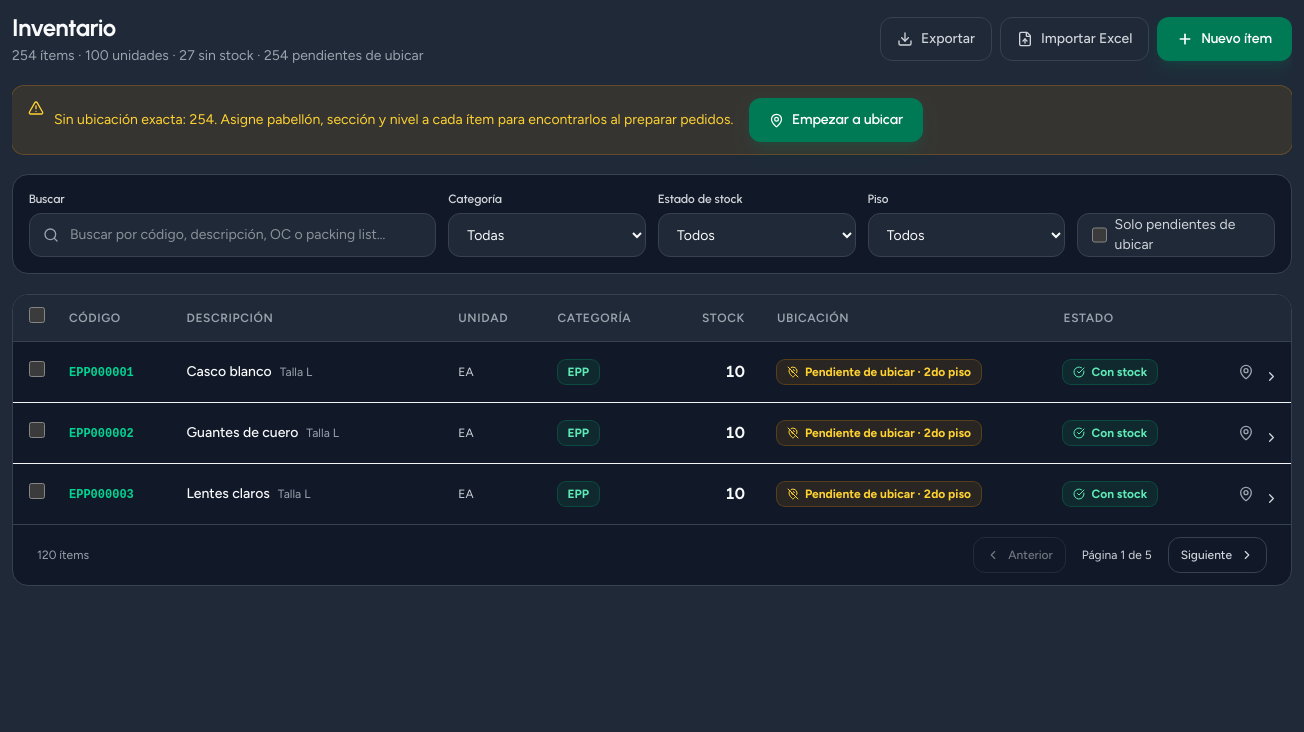
Test case: InventarioPage — selección masiva › cambiar un filtro descarta la selección y vuelve a la página 1
Expected: the link "EPP000001" is shown, left=69, top=366, right=134, bottom=380
Click the button "Siguiente". click: (1217, 555)
box: left=1168, top=537, right=1267, bottom=573
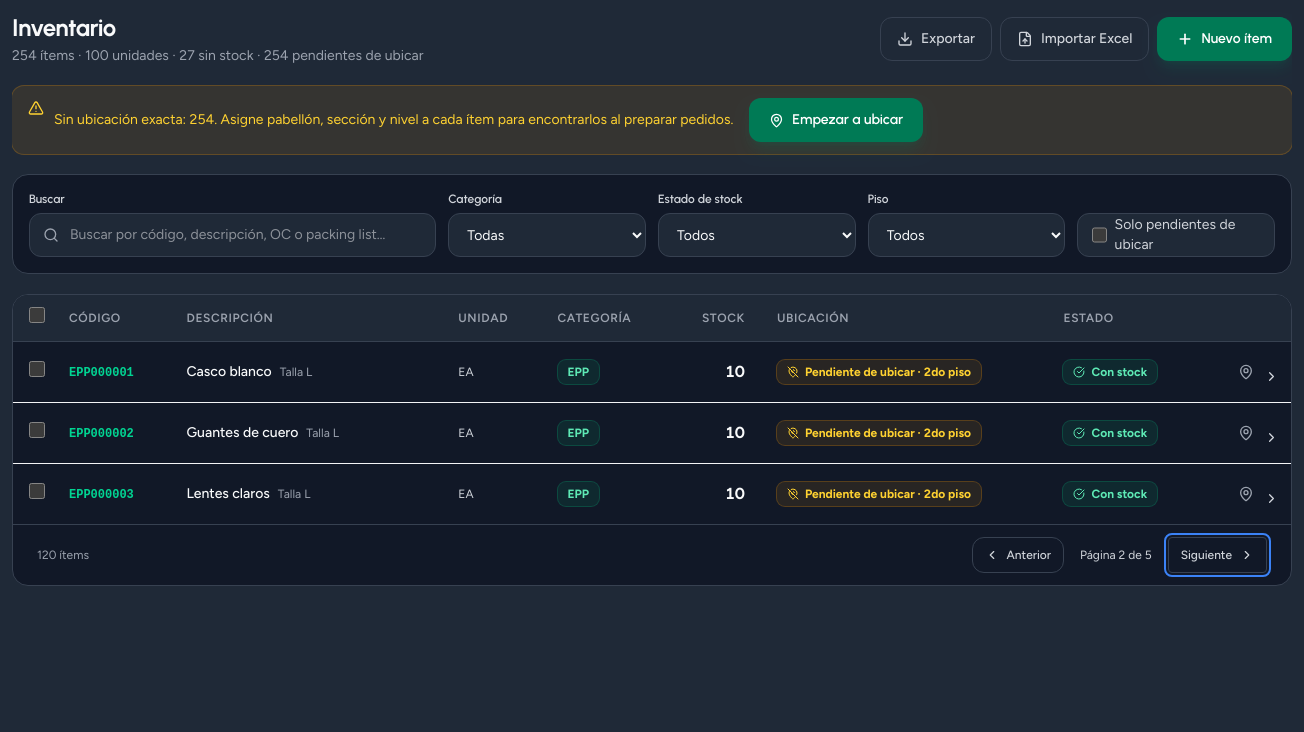
Click the checkbox named "Seleccionar EPP000002". click: (37, 430)
box: left=29, top=422, right=45, bottom=438
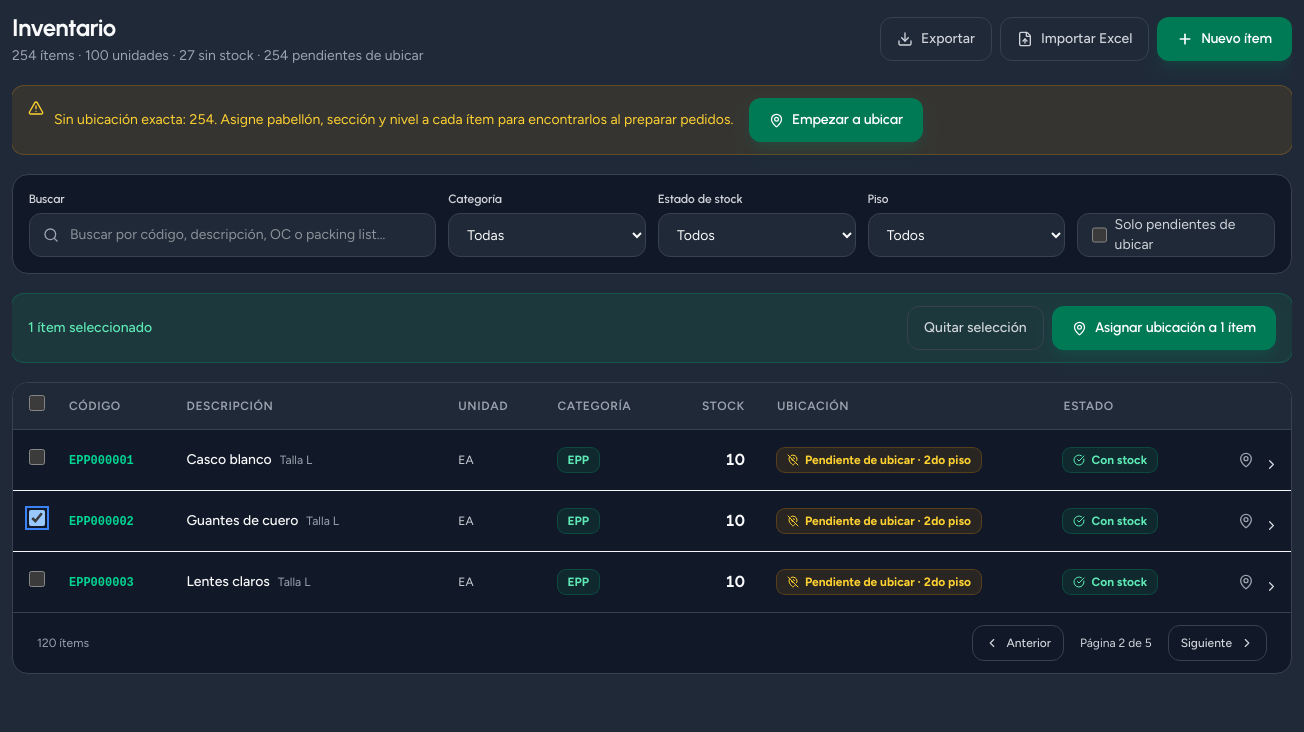
Select "EPP" in the dropdown labelled "Categoría". click: (547, 235)
box: left=448, top=213, right=646, bottom=257
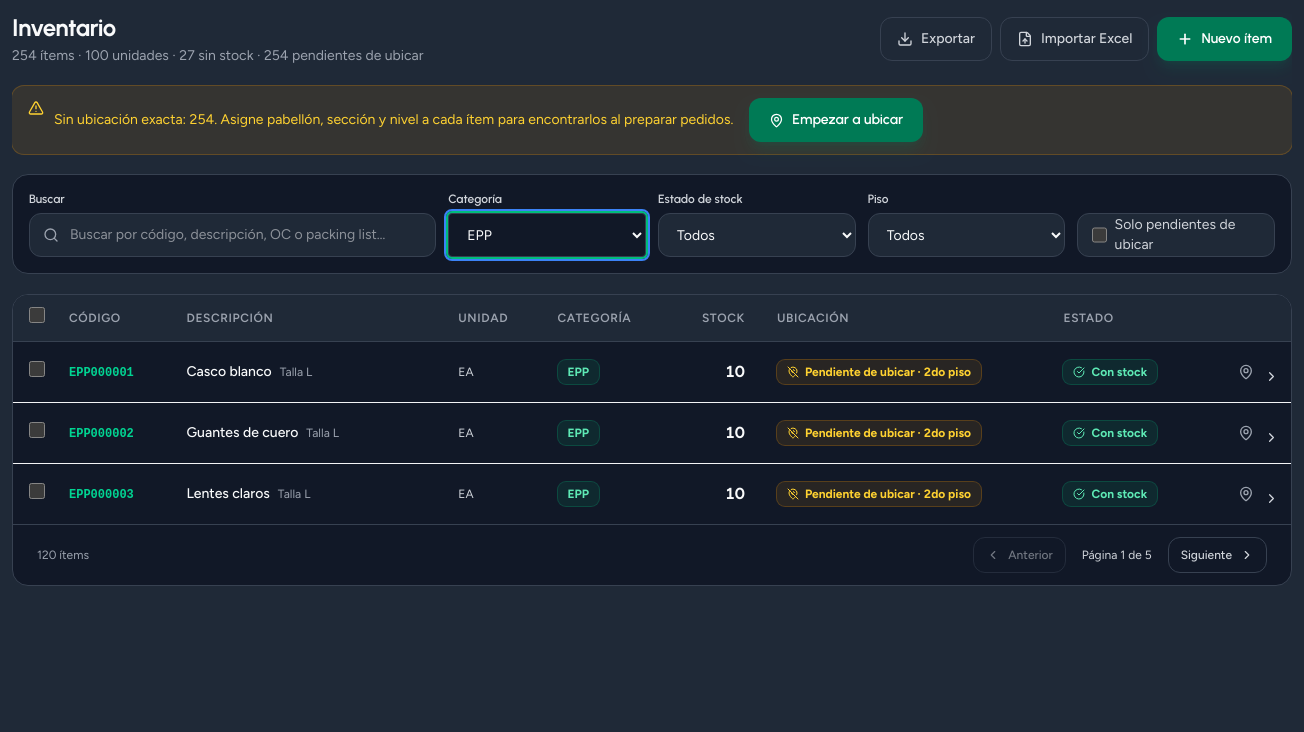
Result: the text "ítem seleccionado" is gone
